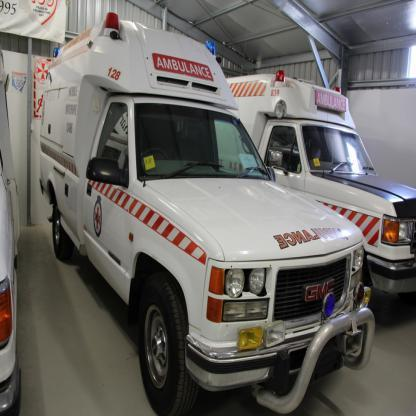Ambulance - v1 Ambulance last generate: (40, 10, 376, 413), (224, 68, 415, 320)
